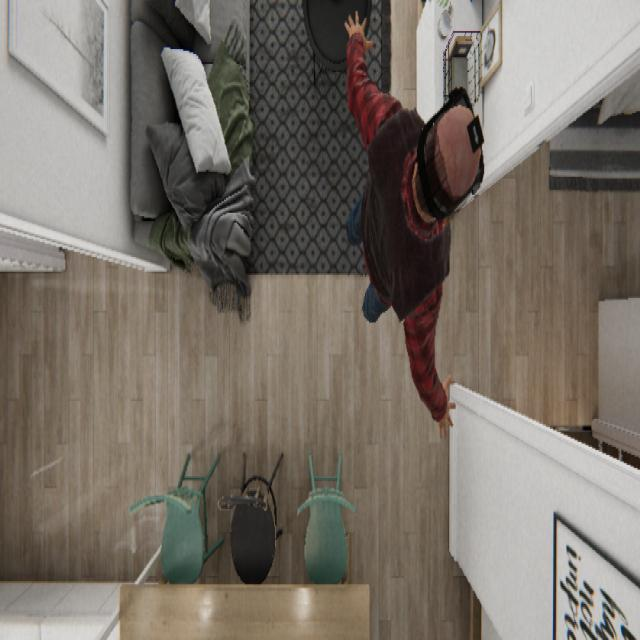Human: (343, 8, 485, 439)
UnityLogo: (466, 111, 484, 154)
